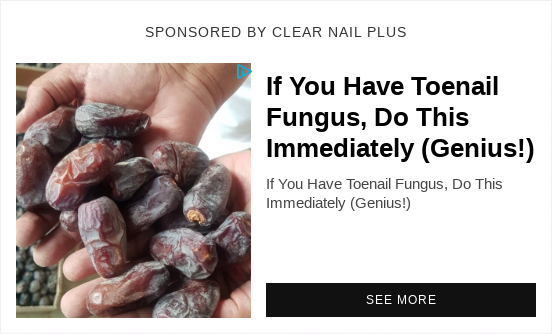fake_button: (260, 276, 544, 327), (278, 270, 310, 314)
